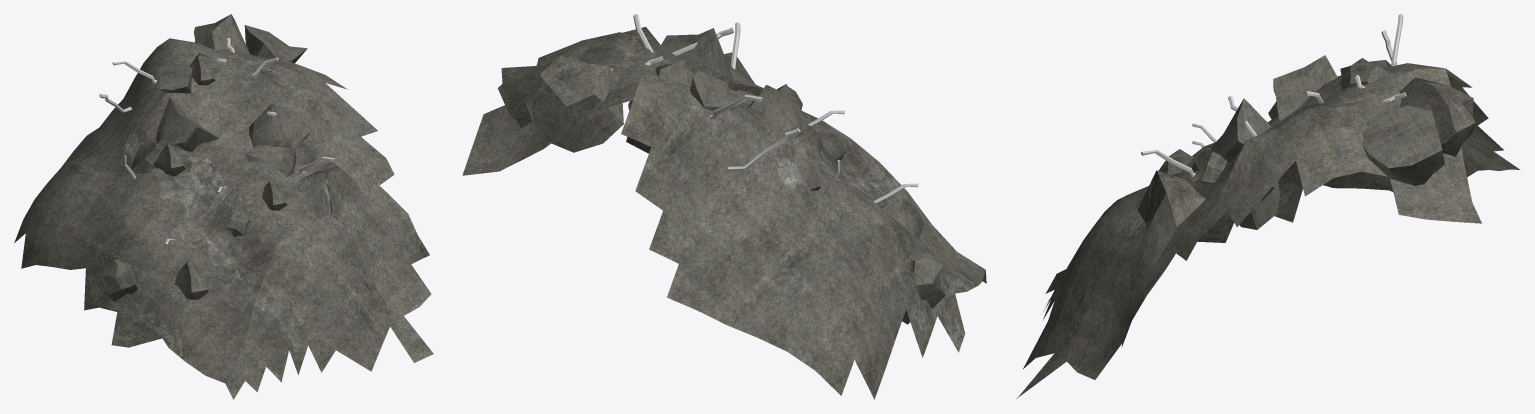
File: Prop_debris_03a.fbx
The picture shows the model from 3 angles, left to right: view 1: azimuth 30°, elevation 25°; view 2: azimuth 150°, elevation 25°; view 3: azimuth 270°, elevation 25°; orthographic projection. The views are drawn at different scales.
Visible parts, largest first — view 1: Cylinder_031; view 2: Cylinder_031; view 3: Cylinder_031.
Part boxes in pixels (x1=…): Cylinder_031: x1=14, y1=14, x2=433, y2=399; Cylinder_031: x1=462, y1=14, x2=986, y2=399; Cylinder_031: x1=1016, y1=14, x2=1520, y2=398.
Bounding box in the file's own units: 15.11 × 11.7 × 17.79.
